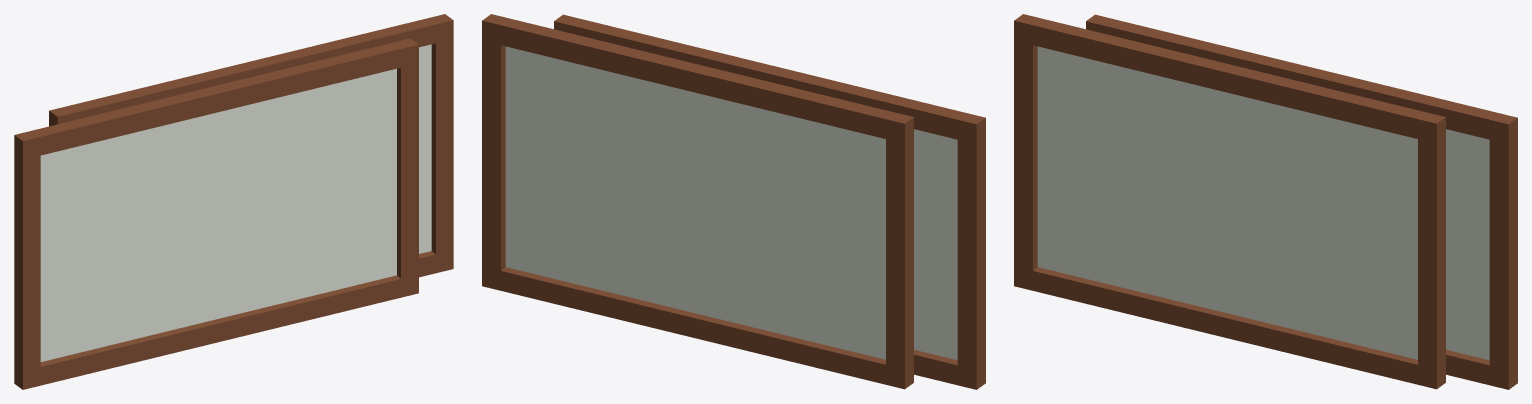
File: JapanWindows.fbx
3 views of the same model, side by side, from view 1: azimuth 30°, elevation 25°; view 2: azimuth 150°, elevation 25°; view 3: azimuth 330°, elevation 25° (orthographic). The views are drawn at different scales.
Parts seen in each view (by area): view 1: Plane.012; view 2: Plane.012; view 3: Plane.012.
Part boxes in pixels (box(x1,y1,x2,y2)): Plane.012: box(14, 14, 453, 389); Plane.012: box(482, 14, 985, 389); Plane.012: box(1014, 14, 1517, 389).
Size of the model in its own units: 272 by 145 by 26.18.
